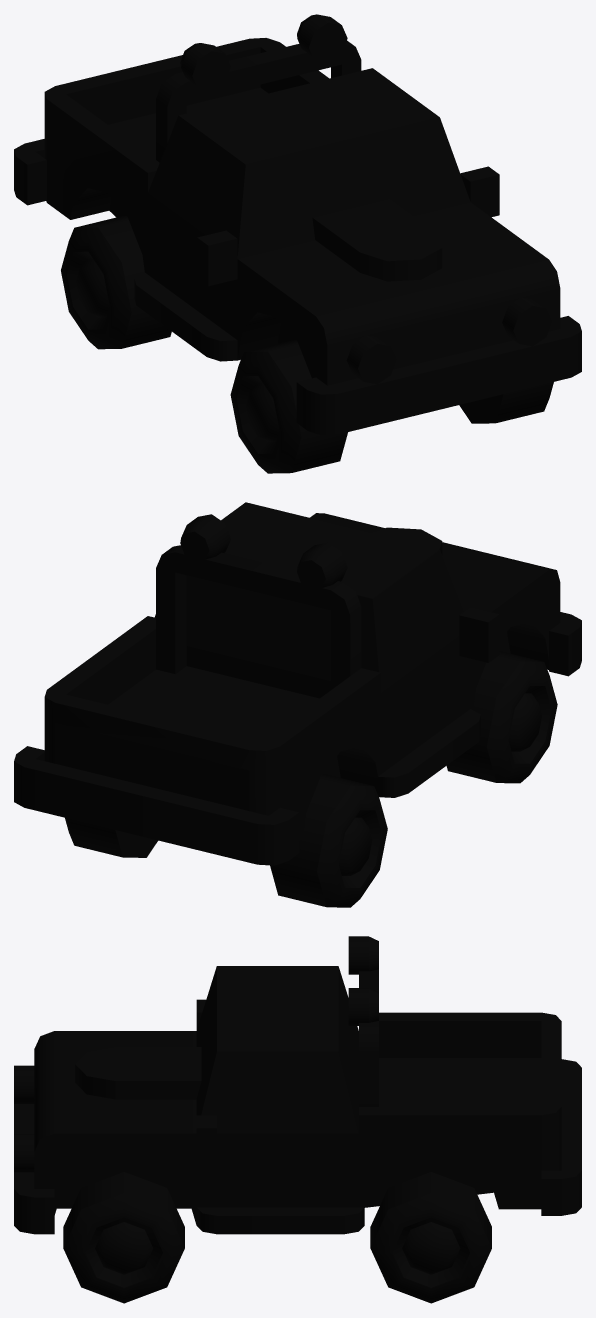
The model's file is vehicle-truck-yellow.glb.
3 renders of one model, top to bottom at view 1: azimuth 30°, elevation 25°; view 2: azimuth 150°, elevation 25°; view 3: azimuth 270°, elevation 25°, orthographic. The views are drawn at different scales.
Parts seen in each view (by area): view 1: body, wheel-back-right, wheel-front-right, wheel-front-left; view 2: body, wheel-back-right, wheel-front-right, wheel-back-left; view 3: body, wheel-front-left, wheel-back-left.
Boxes of the visible parts, x1=… form: body: x1=14, y1=14, x2=581, y2=435; wheel-back-right: x1=61, y1=216, x2=171, y2=349; wheel-front-right: x1=230, y1=340, x2=347, y2=473; wheel-front-left: x1=459, y1=382, x2=553, y2=423; body: x1=14, y1=502, x2=581, y2=865; wheel-back-right: x1=270, y1=774, x2=387, y2=907; wheel-front-right: x1=446, y1=651, x2=557, y2=783; wheel-back-left: x1=65, y1=818, x2=158, y2=857; body: x1=14, y1=936, x2=581, y2=1234; wheel-front-left: x1=63, y1=1172, x2=184, y2=1303; wheel-back-left: x1=370, y1=1172, x2=491, y2=1303.
Bounding box in the file's own units: 1.5 × 1.55 × 2.8.
Materials: 1 (1 with a texture image).
